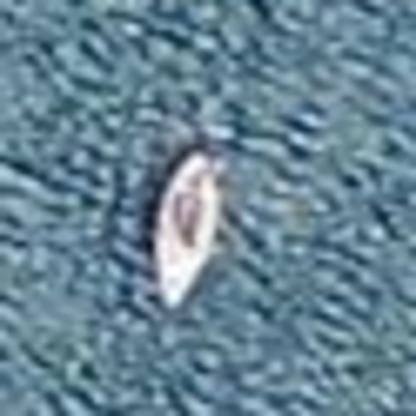ship: (141, 139, 229, 316)
